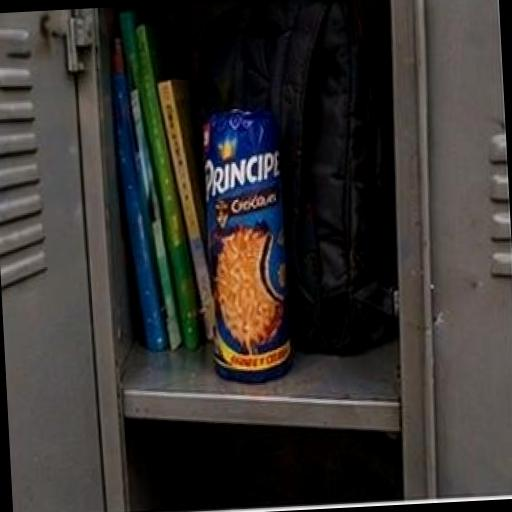prince: (158, 70, 374, 460)
